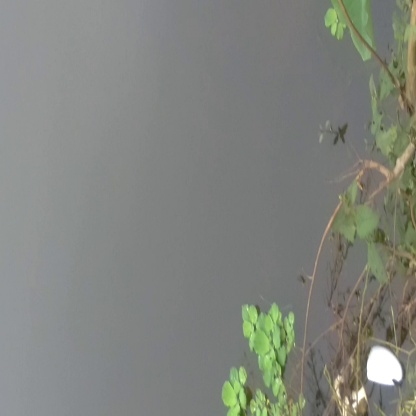leaf: (240, 300, 298, 371)
